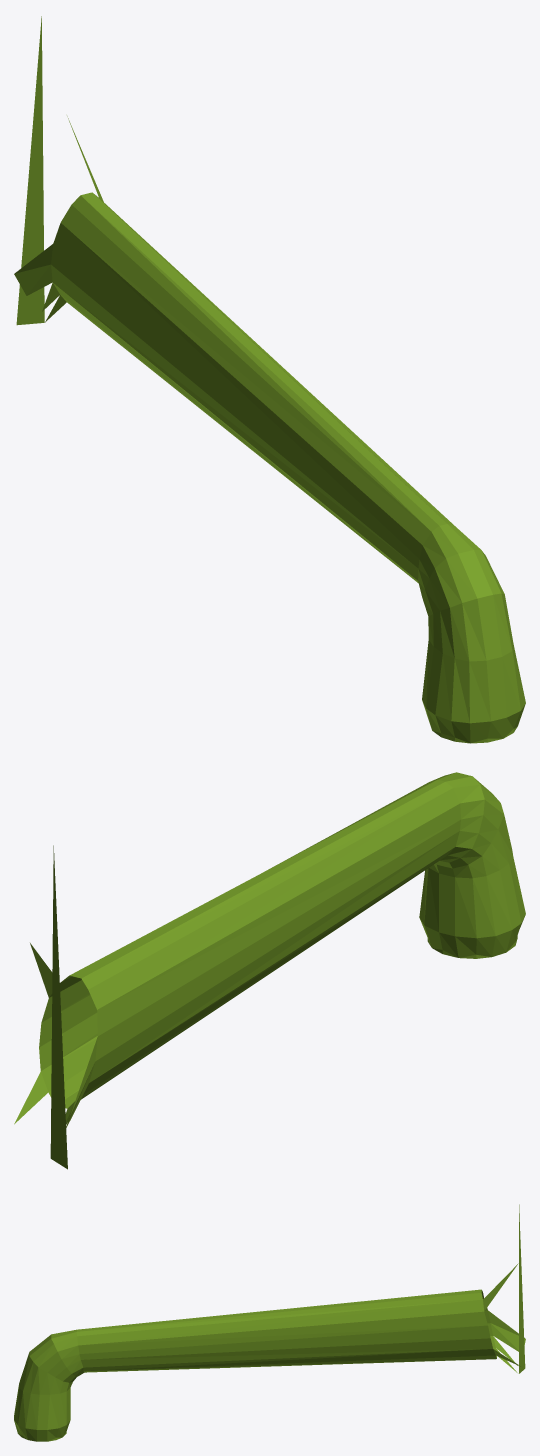
3 renders of one model, top to bottom at view 1: azimuth 30°, elevation 25°; view 2: azimuth 150°, elevation 25°; view 3: azimuth 270°, elevation 25°, orthographic. The views are drawn at different scales.
Size of the model in its own units: 0.0548 by 0.2458 by 0.496.
